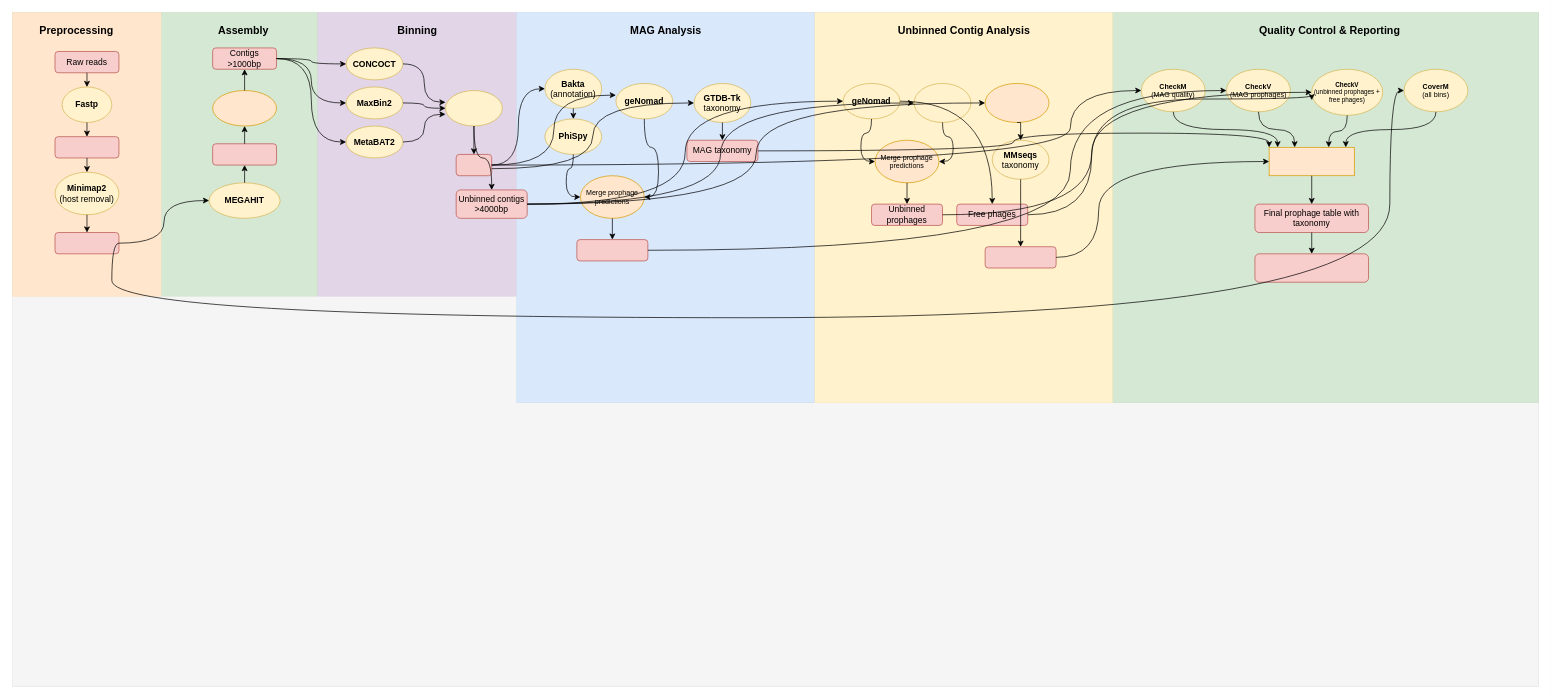
Image size: 1551x699. Some labels were removed from this diagram. The box of each missing label's shape, as (x1, y1, x2, y2) in pixels:
CheckV (prophage pred): (913, 83, 971, 122)
Combine all results: (1268, 147, 1354, 176)
Contigs: (212, 143, 277, 165)
DAS Tool: (445, 90, 502, 126)
Filter >1000bp: (212, 90, 277, 126)
Host-removed reads: (54, 232, 119, 254)
MAG Bins: (455, 154, 492, 176)
MAG prophages: (576, 239, 648, 261)
Mask prophage regions: (984, 83, 1049, 122)
Multi-sample summary report: (1254, 253, 1369, 282)
Trimmed reads: (54, 136, 119, 158)
Unbinned taxonomy: (984, 246, 1056, 268)
